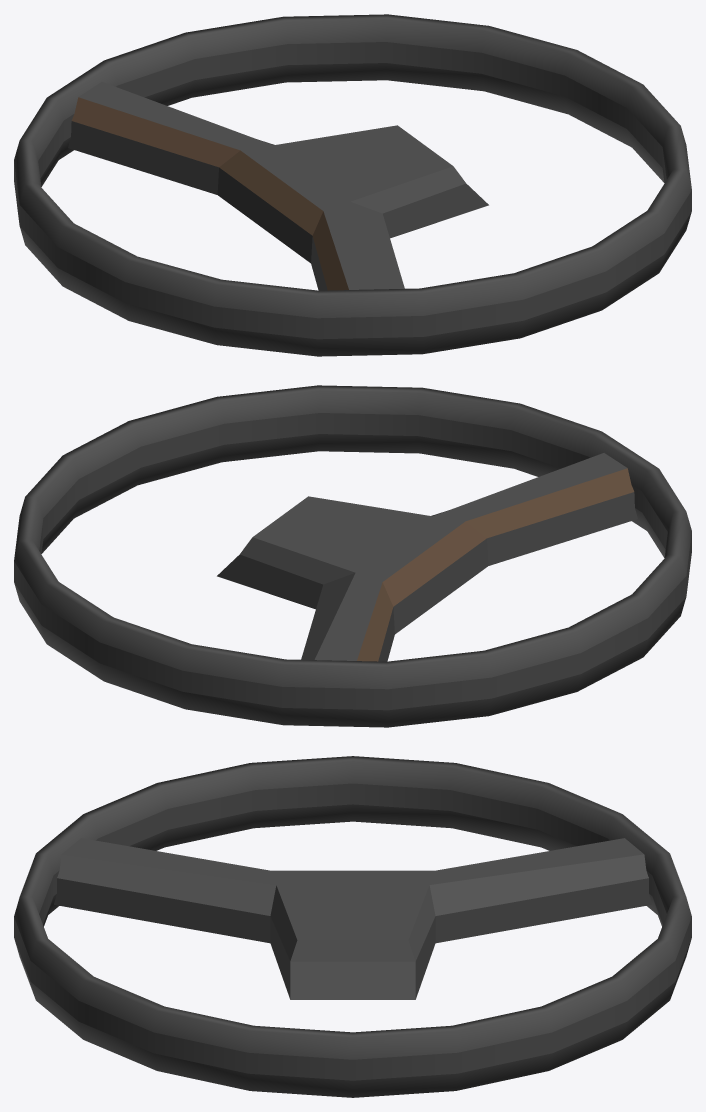
The model's file is SteeringWheel_Wheel.fbx.
3 views of the same model, one above another, from view 1: azimuth 30°, elevation 25°; view 2: azimuth 150°, elevation 25°; view 3: azimuth 270°, elevation 25° (orthographic).
Parts seen in each view (by area): view 1: Wheel1; view 2: Wheel1; view 3: Wheel1.
Boxes of the visible parts, bbox=[...] form: Wheel1: bbox=[14, 14, 691, 356]; Wheel1: bbox=[14, 385, 691, 727]; Wheel1: bbox=[14, 756, 691, 1097].
Size of the model in its own units: 54.91 by 54.91 by 5.37.
